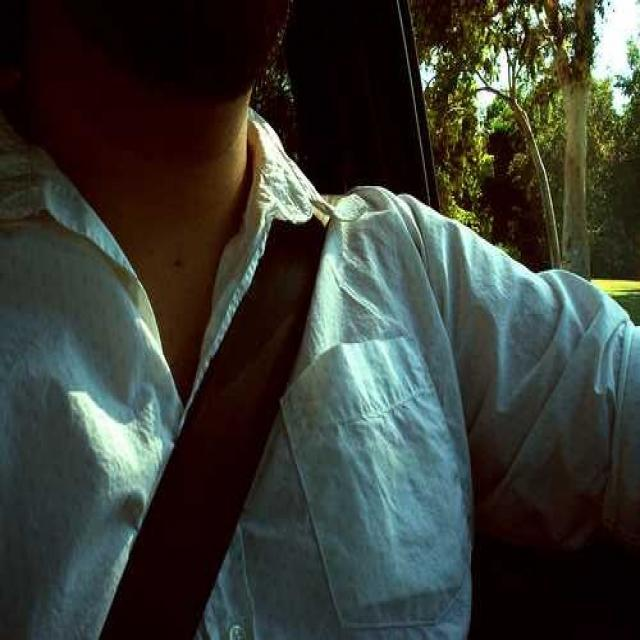seatbelt: (95, 188, 352, 598)
